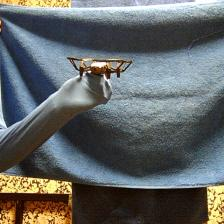drone: (66, 54, 133, 80)
